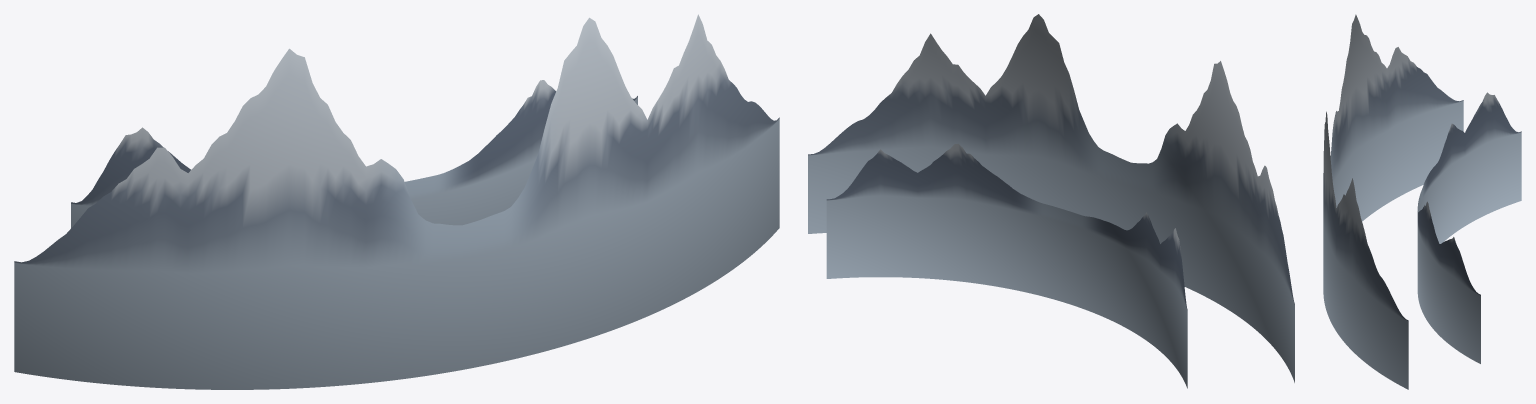
The picture shows the model from 3 angles, left to right: view 1: azimuth 30°, elevation 25°; view 2: azimuth 150°, elevation 25°; view 3: azimuth 270°, elevation 25°; orthographic projection. The views are drawn at different scales.
Visible parts, largest first — view 1: Mesh_L2A_FarMassif; view 2: Mesh_L2A_FarMassif; view 3: Mesh_L2A_FarMassif.
Boxes of the visible parts, x1,y1,x2,y2 form: Mesh_L2A_FarMassif: (14,14,779,389); Mesh_L2A_FarMassif: (808,14,1294,388); Mesh_L2A_FarMassif: (1323,14,1521,389).
Bounding box in the file's own units: 830 × 374 × 315.
